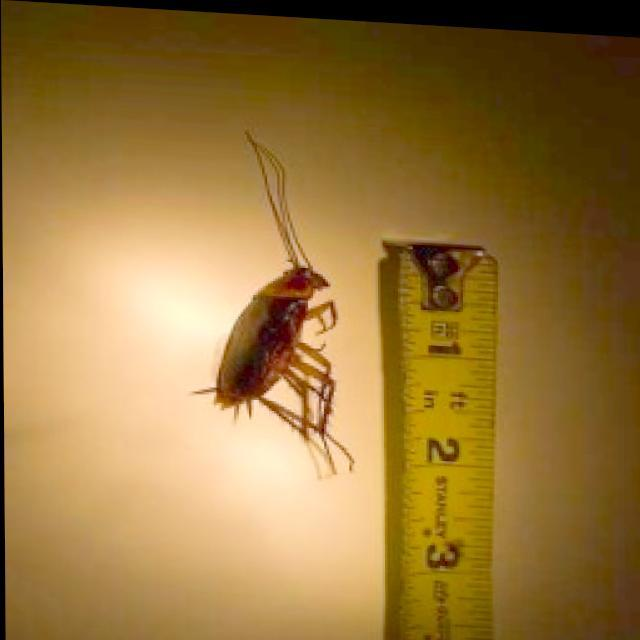cockroach: (190, 125, 359, 481)
